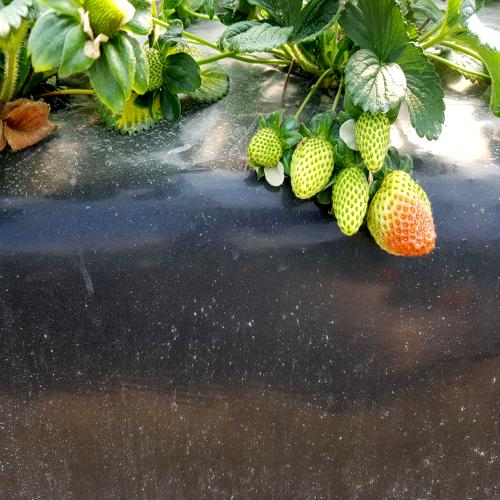partially-ripe: (364, 171, 437, 259)
